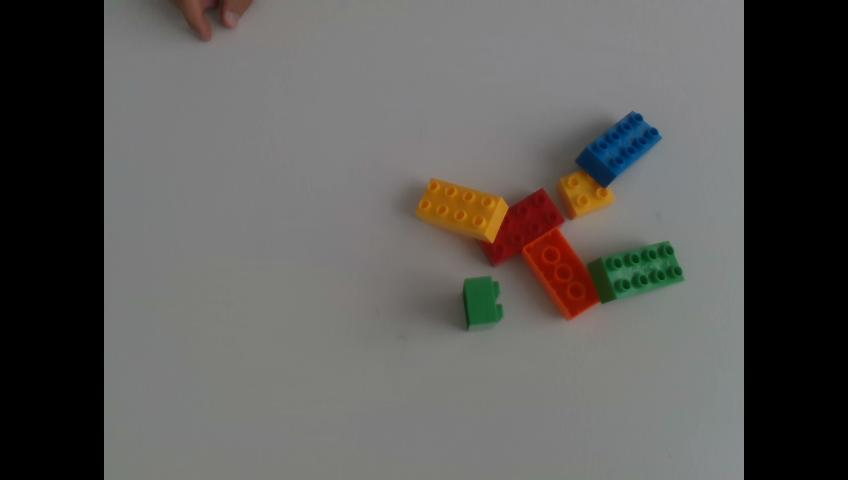2x2_green: (464, 275, 503, 331)
2x2_yellow: (557, 170, 614, 218)
4x2_blue: (576, 110, 661, 185)
4x2_green: (589, 240, 684, 305)
4x2_orange: (521, 228, 599, 319)
4x2_red: (480, 187, 563, 268)
4x2_yellow: (417, 177, 509, 240)
